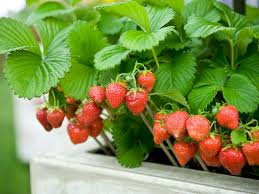Fresa: (217, 142, 248, 177), (163, 108, 192, 142), (212, 101, 240, 131), (171, 138, 198, 168), (185, 112, 211, 143), (124, 85, 149, 116), (104, 80, 128, 109), (197, 132, 222, 158), (35, 106, 57, 134), (136, 68, 156, 95), (46, 105, 66, 130), (242, 138, 259, 167), (151, 119, 169, 146), (88, 85, 107, 106)
